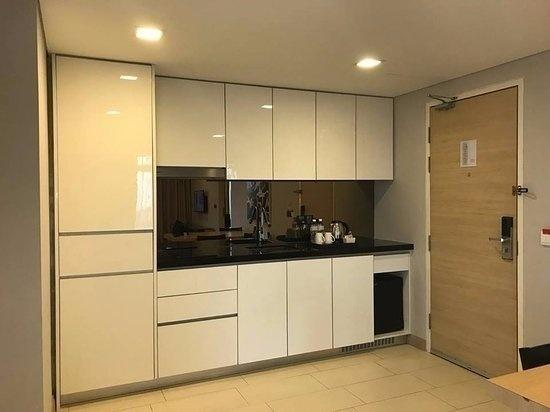cabinet_door: (53, 61, 154, 229), (60, 272, 159, 389), (155, 81, 223, 168), (242, 266, 290, 357), (56, 229, 154, 273), (228, 86, 273, 179), (274, 91, 318, 182), (287, 261, 332, 349), (156, 318, 235, 368), (319, 94, 358, 181), (336, 258, 377, 339), (359, 100, 392, 180), (158, 266, 238, 295), (158, 298, 237, 323)
handle: (486, 233, 515, 247)
